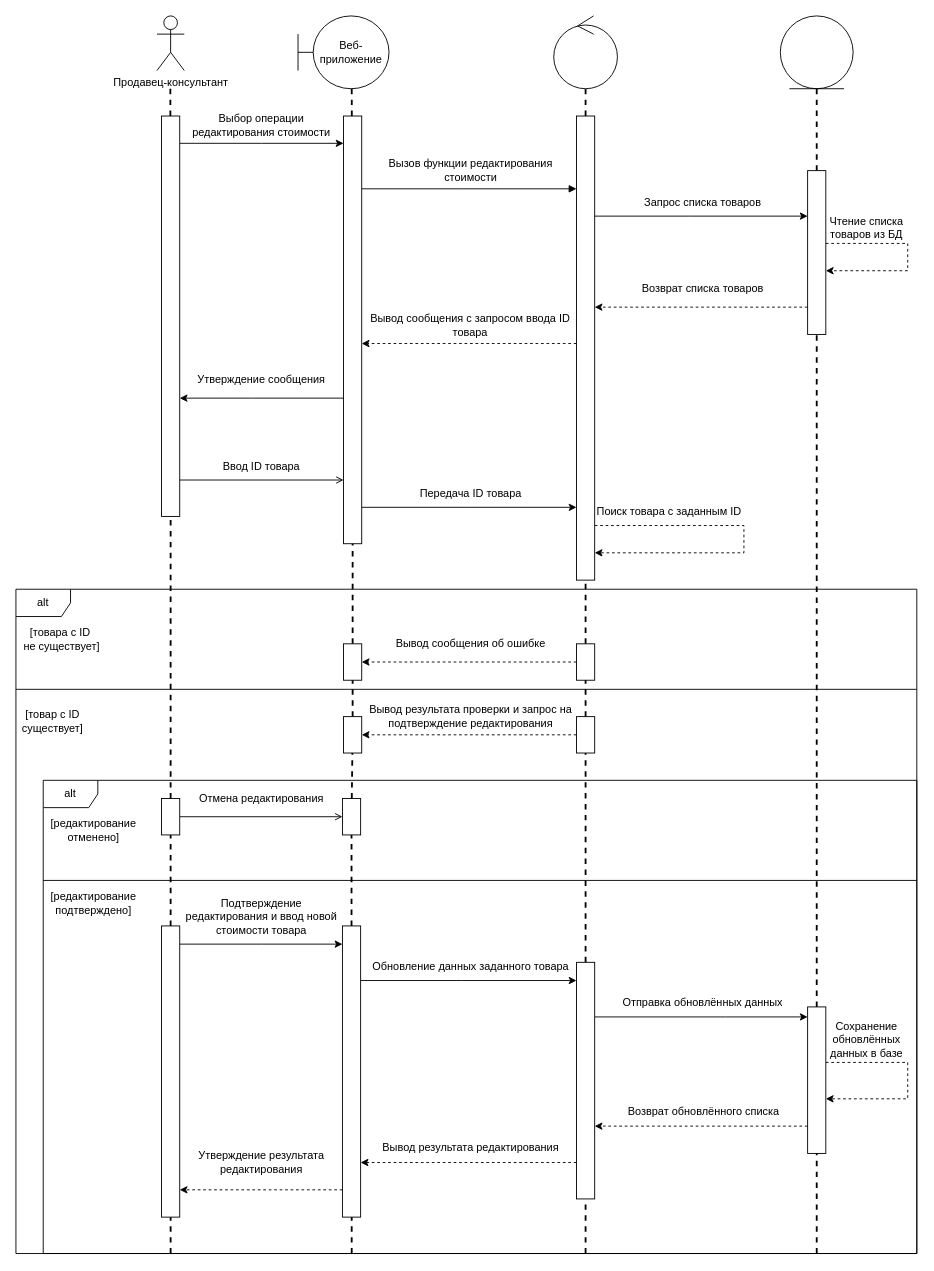
Image size: 934x1271. Some labels were removed from this diagram. The shapes that lost their labels are listed below. From the top down, each one's centre as x and y in pixels, then its label:
At [585,52]: "Сервнрная часть".
At [816,52]: "База данных".
